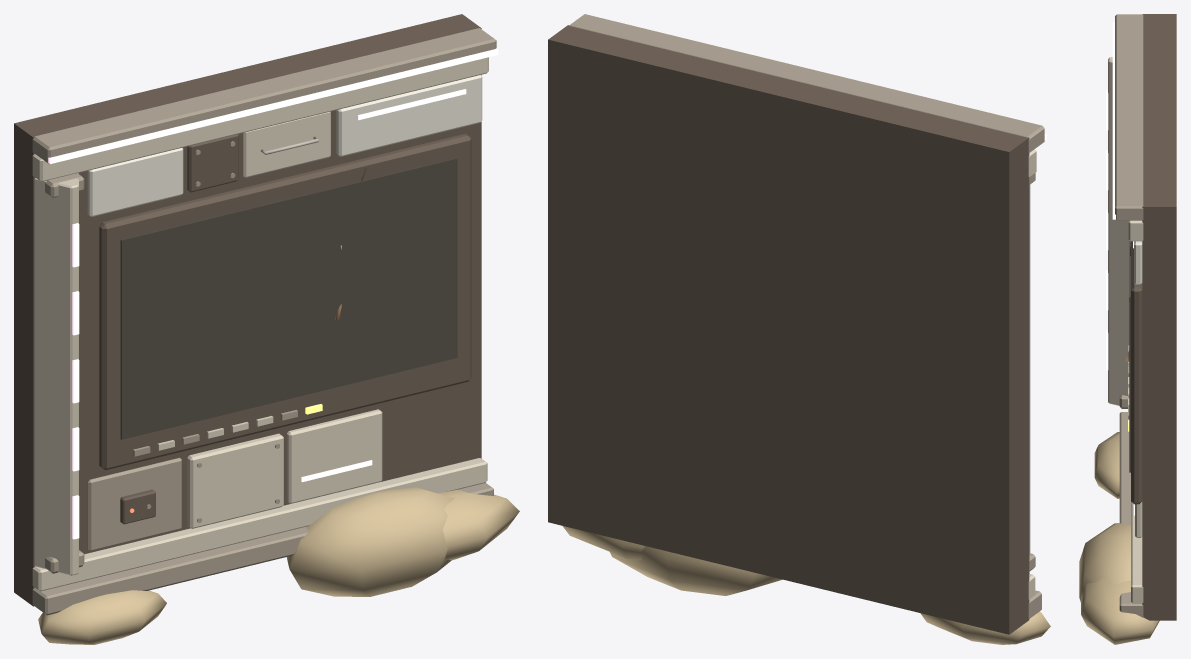
File: wall_du_bigscreen.glb
3 views of the same model, side by side, from view 1: azimuth 30°, elevation 25°; view 2: azimuth 150°, elevation 25°; view 3: azimuth 270°, elevation 25° (orthographic). The views are drawn at different scales.
Parts seen in each view (by area): view 1: wall_du_bigscreen; view 2: wall_du_bigscreen; view 3: wall_du_bigscreen.
Part boxes in pixels (box(x1,y1,x2,y2)): wall_du_bigscreen: box(14, 14, 519, 644); wall_du_bigscreen: box(548, 14, 1050, 644); wall_du_bigscreen: box(1079, 14, 1176, 644).
Bounding box in the file's own units: 4.25 × 4.49 × 0.8521.
